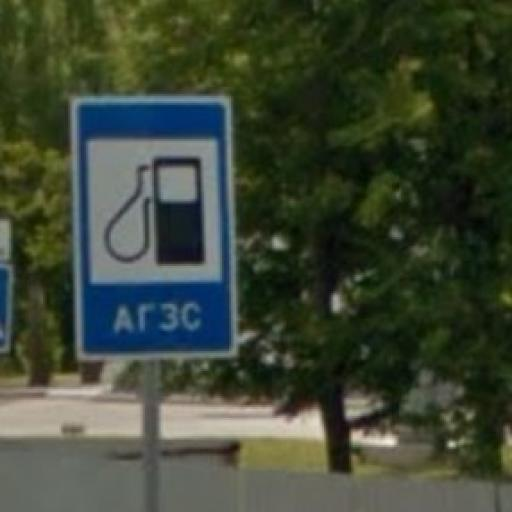traffic_sign: (69, 93, 239, 363)
